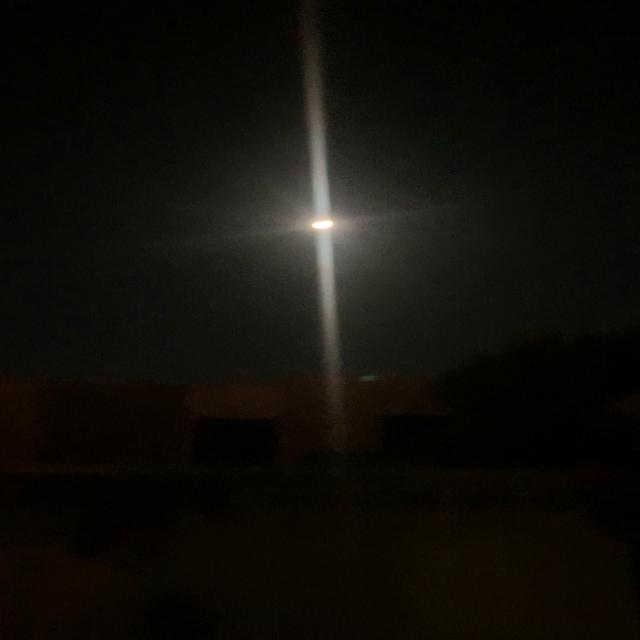moon: (302, 212, 348, 238)
